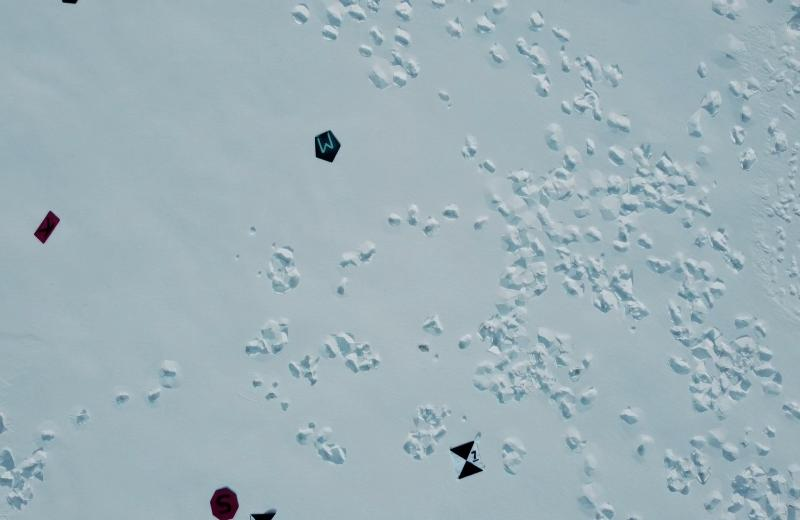Octagon: (207, 482, 241, 520)
Pentagon: (311, 128, 344, 166)
Rectangle: (33, 206, 62, 248)
